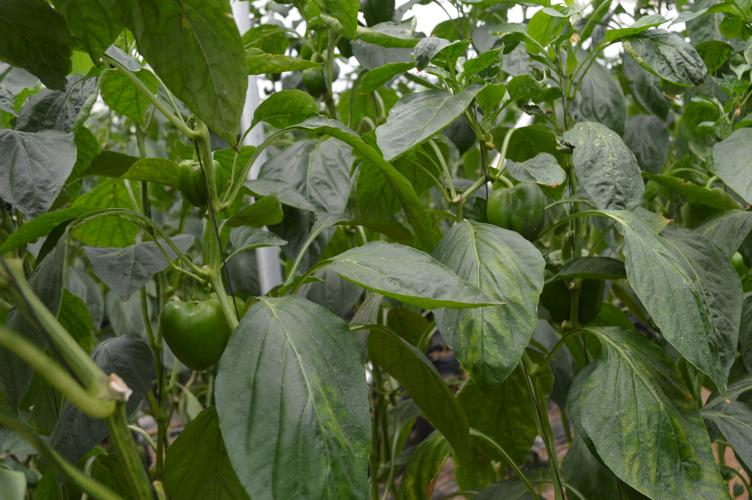BellPepper: (152, 299, 229, 373), (537, 251, 607, 326), (482, 184, 546, 242), (176, 162, 217, 204), (301, 63, 334, 92)
